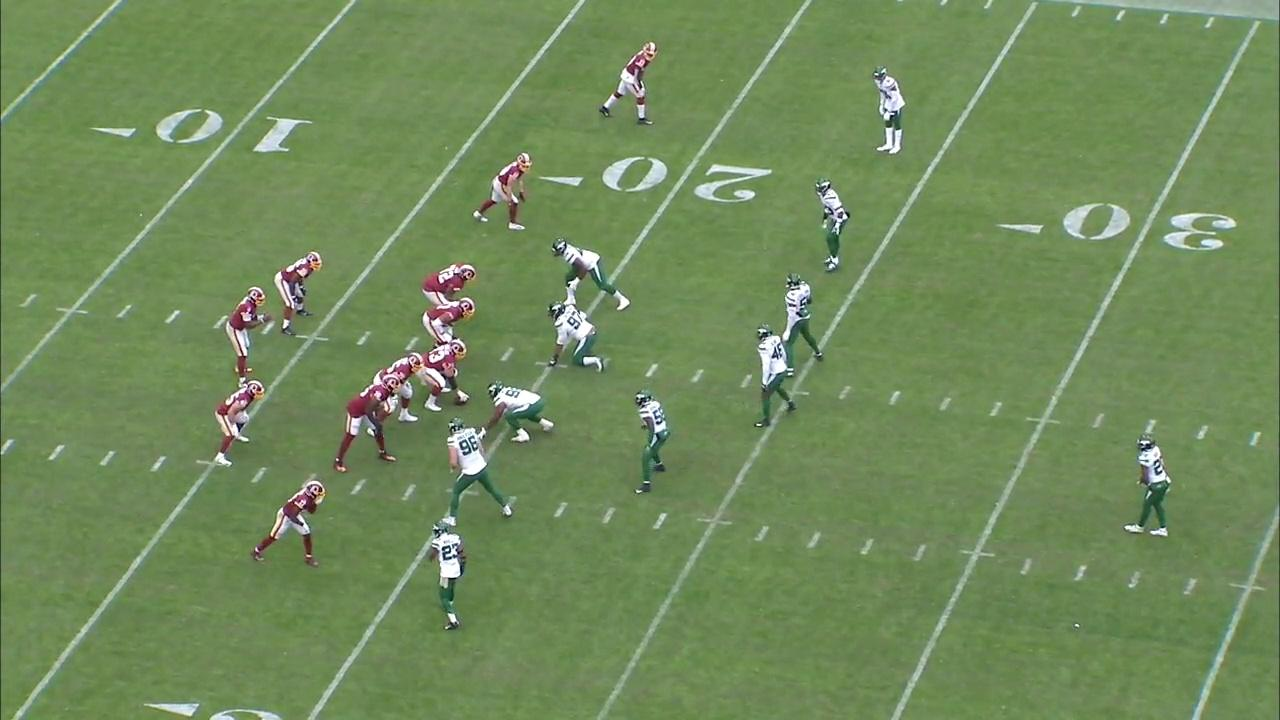defense: (445, 422, 515, 529), (549, 232, 631, 313), (428, 522, 474, 633), (1128, 424, 1172, 540), (485, 379, 553, 454), (753, 323, 797, 429), (542, 300, 606, 372), (778, 275, 826, 366), (633, 394, 669, 494), (810, 176, 846, 272), (871, 65, 904, 158)
oline: (337, 374, 398, 470), (375, 353, 423, 424), (421, 342, 467, 413), (424, 260, 479, 304), (424, 299, 479, 340)
qb: (223, 280, 272, 384)
skill: (249, 477, 328, 564), (472, 152, 535, 232), (599, 42, 656, 129), (213, 379, 268, 465), (278, 253, 320, 335)
